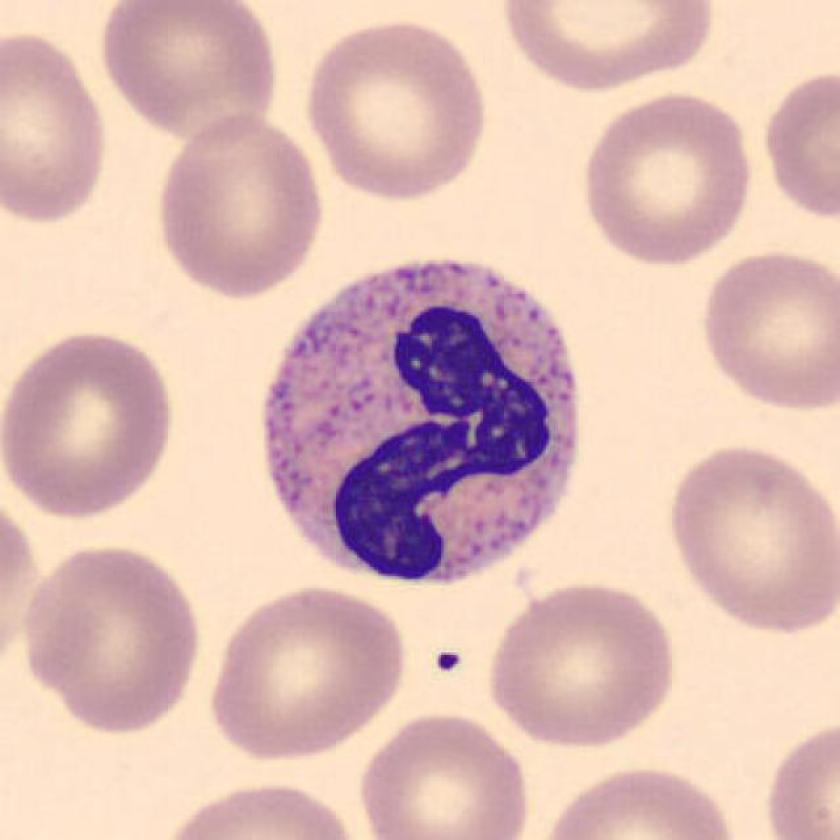neutrophil: (261, 259, 581, 579)
